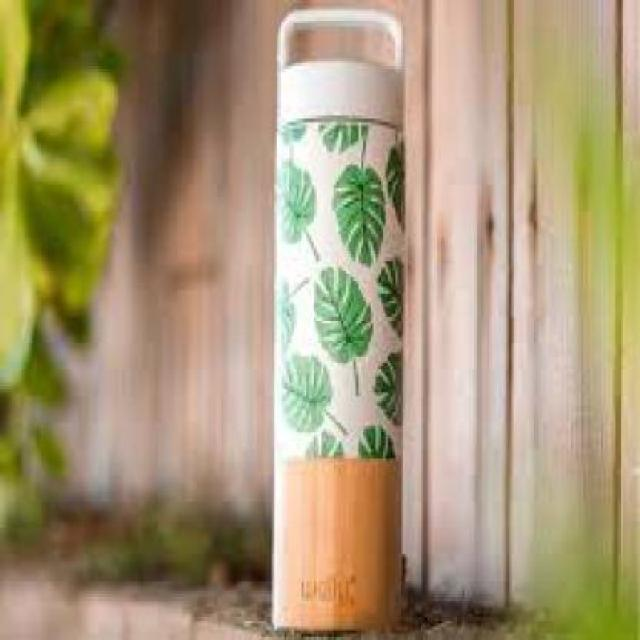Drinking: (264, 0, 425, 637)
